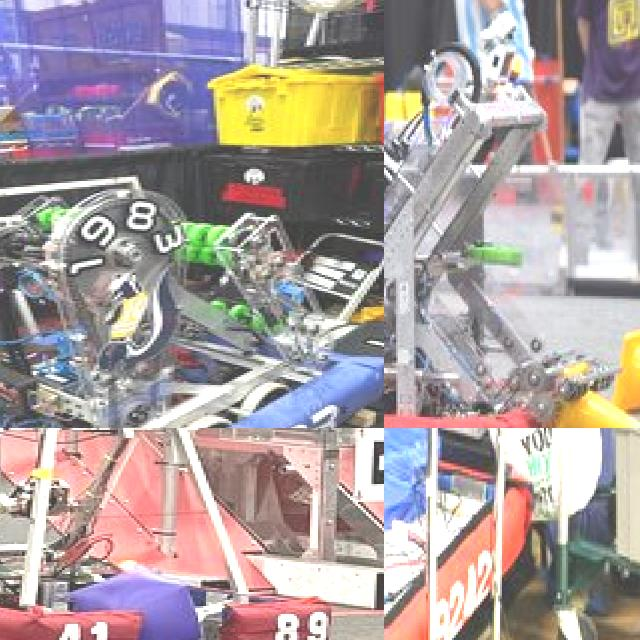FRC-Robots: (0, 170, 384, 428), (384, 66, 640, 428), (0, 428, 340, 640), (384, 428, 539, 640)
